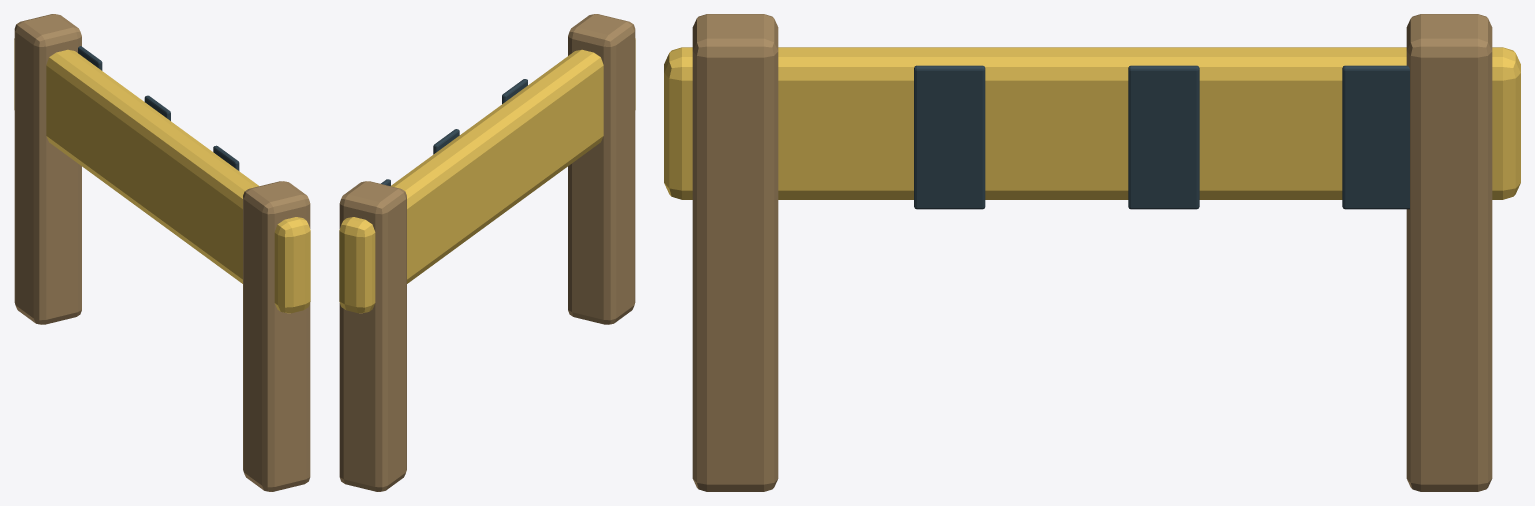
Rendered from hazard-edge.glb.
The picture shows the model from 3 angles, left to right: view 1: azimuth 30°, elevation 25°; view 2: azimuth 150°, elevation 25°; view 3: azimuth 270°, elevation 25°; orthographic projection. The views are drawn at different scales.
Visible parts, largest first — view 1: tyaga-hazard-edge-surface; view 2: tyaga-hazard-edge-surface; view 3: tyaga-hazard-edge-surface.
Part boxes in pixels (x1,y1,x2,y2): tyaga-hazard-edge-surface: (14, 14, 310, 491); tyaga-hazard-edge-surface: (339, 14, 635, 491); tyaga-hazard-edge-surface: (664, 14, 1520, 491).
Size of the model in its own units: 0.12 by 0.7 by 1.2.
